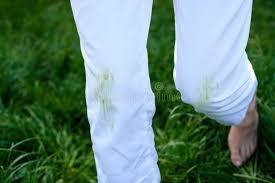earth: (94, 71, 110, 117), (198, 81, 210, 103)
